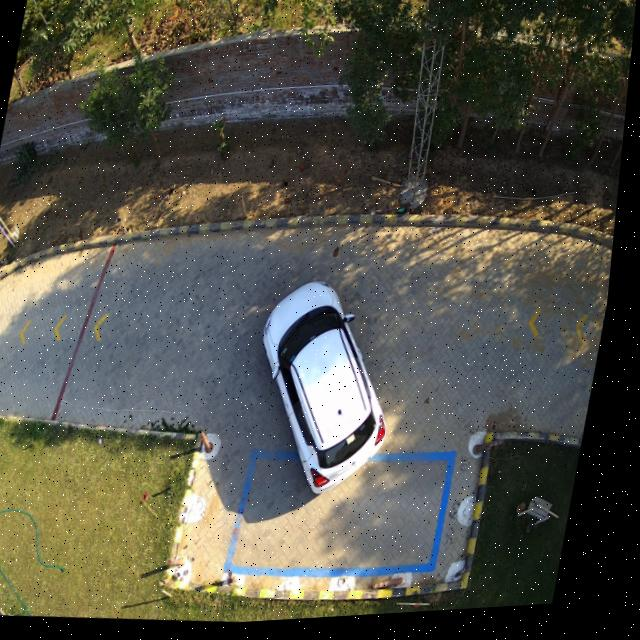car: (266, 286, 391, 499)
